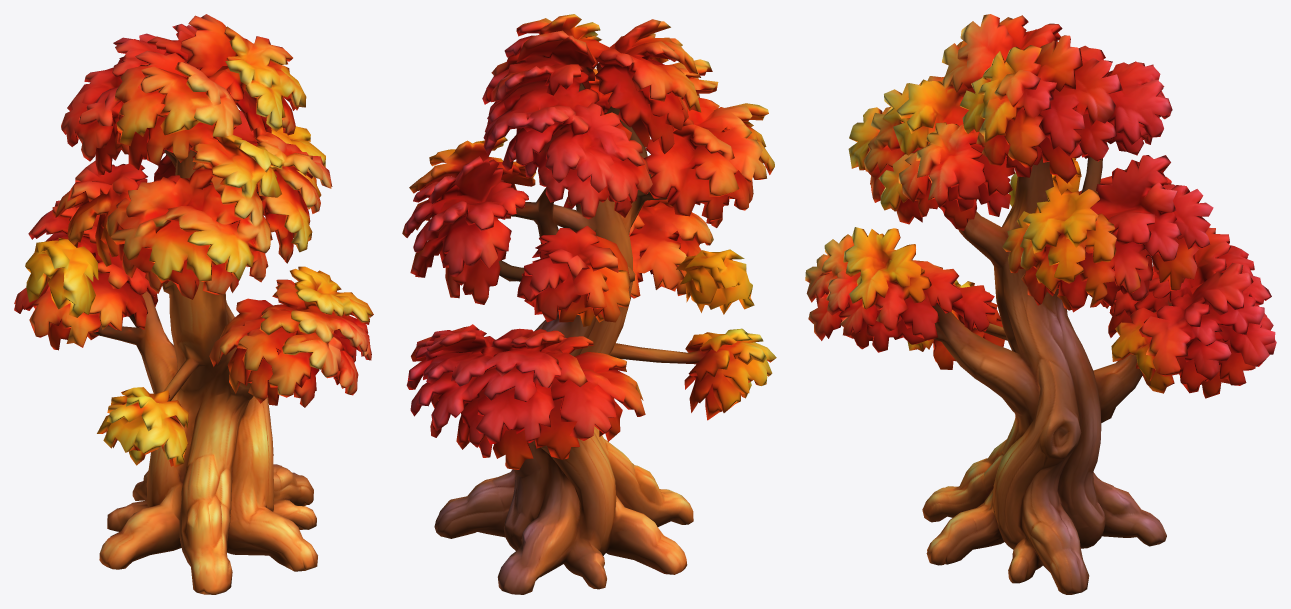
The model's file is P_TreeAutumn_B_HD_src.glb.
3 renders of one model, left to right at view 1: azimuth 30°, elevation 25°; view 2: azimuth 150°, elevation 25°; view 3: azimuth 270°, elevation 25°, orthographic. The views are drawn at different scales.
Visible parts, largest first — view 1: tripo_node_0d233c8d-8fab-4e08-8a47-49503913e8ec; view 2: tripo_node_0d233c8d-8fab-4e08-8a47-49503913e8ec; view 3: tripo_node_0d233c8d-8fab-4e08-8a47-49503913e8ec.
Boxes of the visible parts, bbox=[...] form: tripo_node_0d233c8d-8fab-4e08-8a47-49503913e8ec: bbox=[14, 14, 373, 594]; tripo_node_0d233c8d-8fab-4e08-8a47-49503913e8ec: bbox=[402, 14, 776, 594]; tripo_node_0d233c8d-8fab-4e08-8a47-49503913e8ec: bbox=[805, 14, 1276, 594].
Bounding box in the file's own units: 0.6147 × 0.9783 × 0.8275.
Materials: 1 (1 with a texture image).
